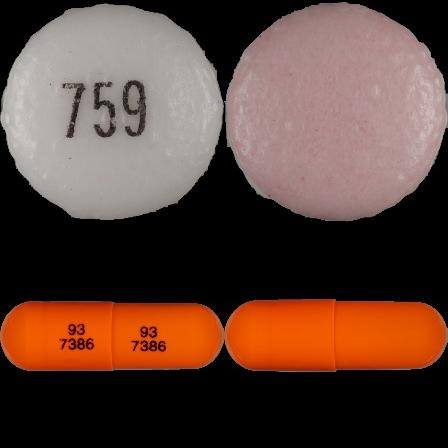35356-579: (0, 0, 224, 224)
